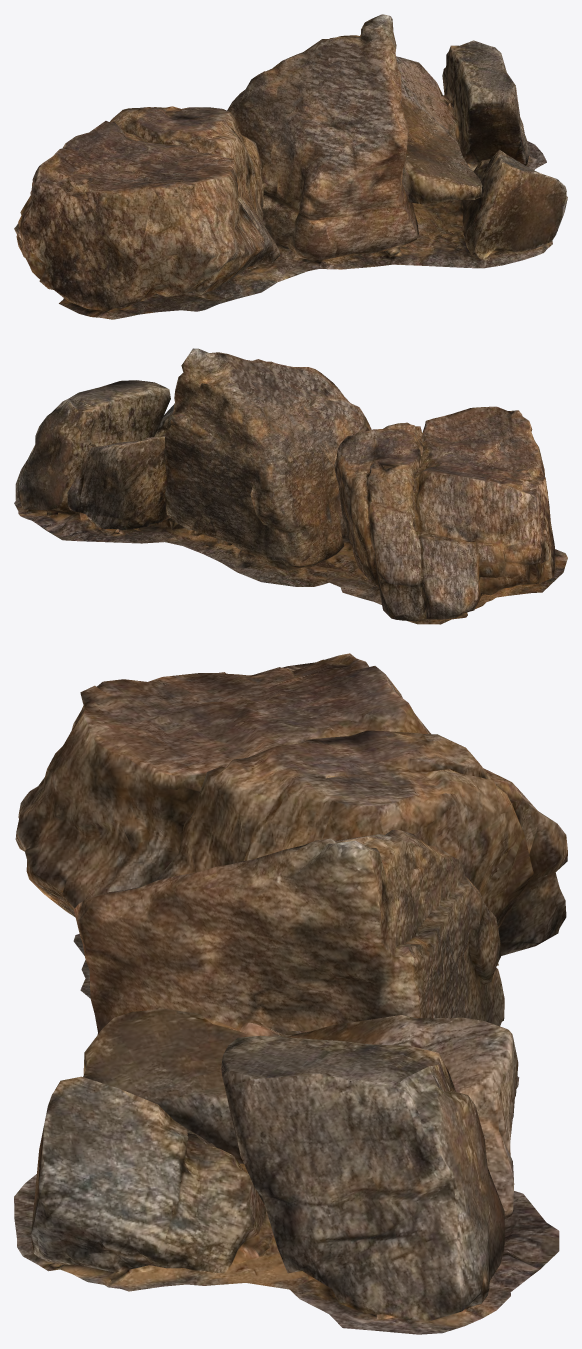
File: namaqualand_boulder_02.glb
The picture shows the model from 3 angles, top to bottom: view 1: azimuth 30°, elevation 25°; view 2: azimuth 150°, elevation 25°; view 3: azimuth 270°, elevation 25°; orthographic projection. The views are drawn at different scales.
Visible parts, largest first — view 1: boulder_02; view 2: boulder_02; view 3: boulder_02.
Boxes of the visible parts, x1,y1,x2,y2 form: boulder_02: [14, 14, 567, 319]; boulder_02: [14, 348, 567, 624]; boulder_02: [14, 653, 567, 1334].
Bounding box in the file's own units: 2.52 × 0.8804 × 1.23.
1 material, 1 textured.
